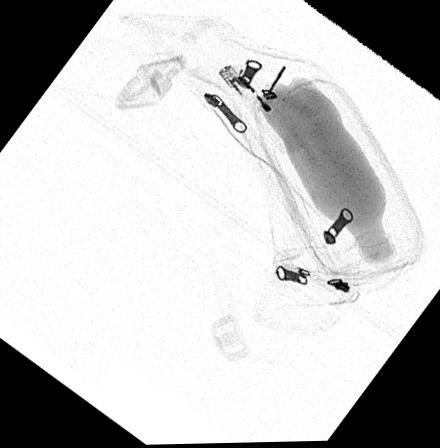Lighter: (216, 63, 303, 152)
